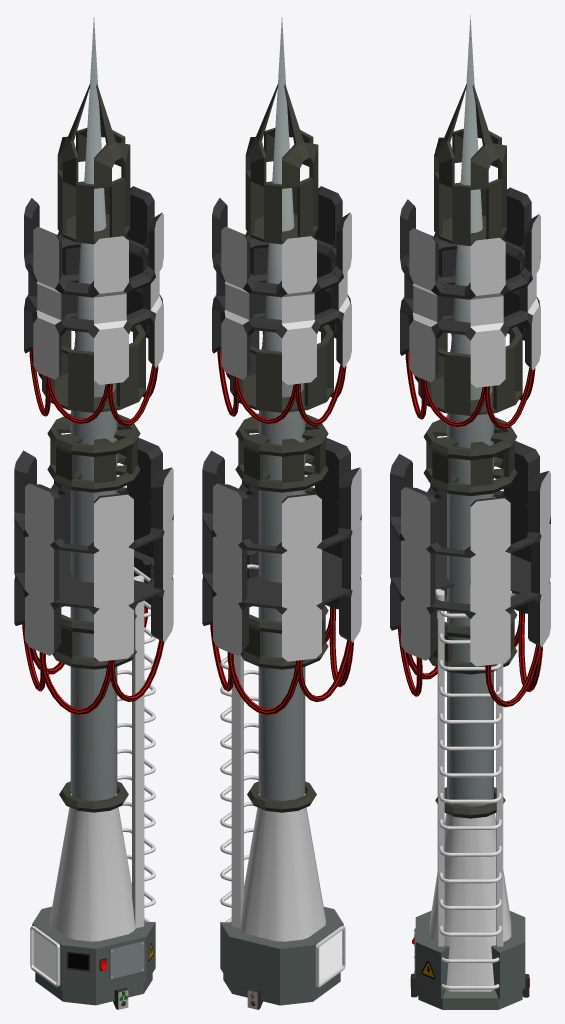
The model's file is BuildState4.fbx.
3 views of the same model, side by side, from view 1: azimuth 30°, elevation 25°; view 2: azimuth 150°, elevation 25°; view 3: azimuth 270°, elevation 25° (orthographic).
Parts seen in each view (by area): view 1: BuildState4MainBody, BuildState4Ladder, BuildState4Cabling, BuildState4Vent, BuildState4Panel; view 2: BuildState4MainBody, BuildState4Ladder, BuildState4Cabling, BuildState4Vent; view 3: BuildState4MainBody, BuildState4Ladder, BuildState4Cabling.
Part boxes in pixels (x1,y1,x2,y2): BuildState4MainBody: (14, 17, 173, 1005); BuildState4Ladder: (117, 567, 155, 928); BuildState4Cabling: (22, 331, 164, 714); BuildState4Vent: (30, 926, 60, 987); BuildState4Panel: (109, 941, 144, 978); BuildState4MainBody: (202, 17, 361, 1005); BuildState4Ladder: (220, 564, 258, 928); BuildState4Cabling: (210, 331, 353, 714); BuildState4Vent: (315, 926, 345, 987); BuildState4MainBody: (390, 14, 550, 1009); BuildState4Ladder: (435, 588, 516, 989); BuildState4Cabling: (398, 333, 542, 707).
Bounding box in the file's own units: 137 × 921 × 137.
